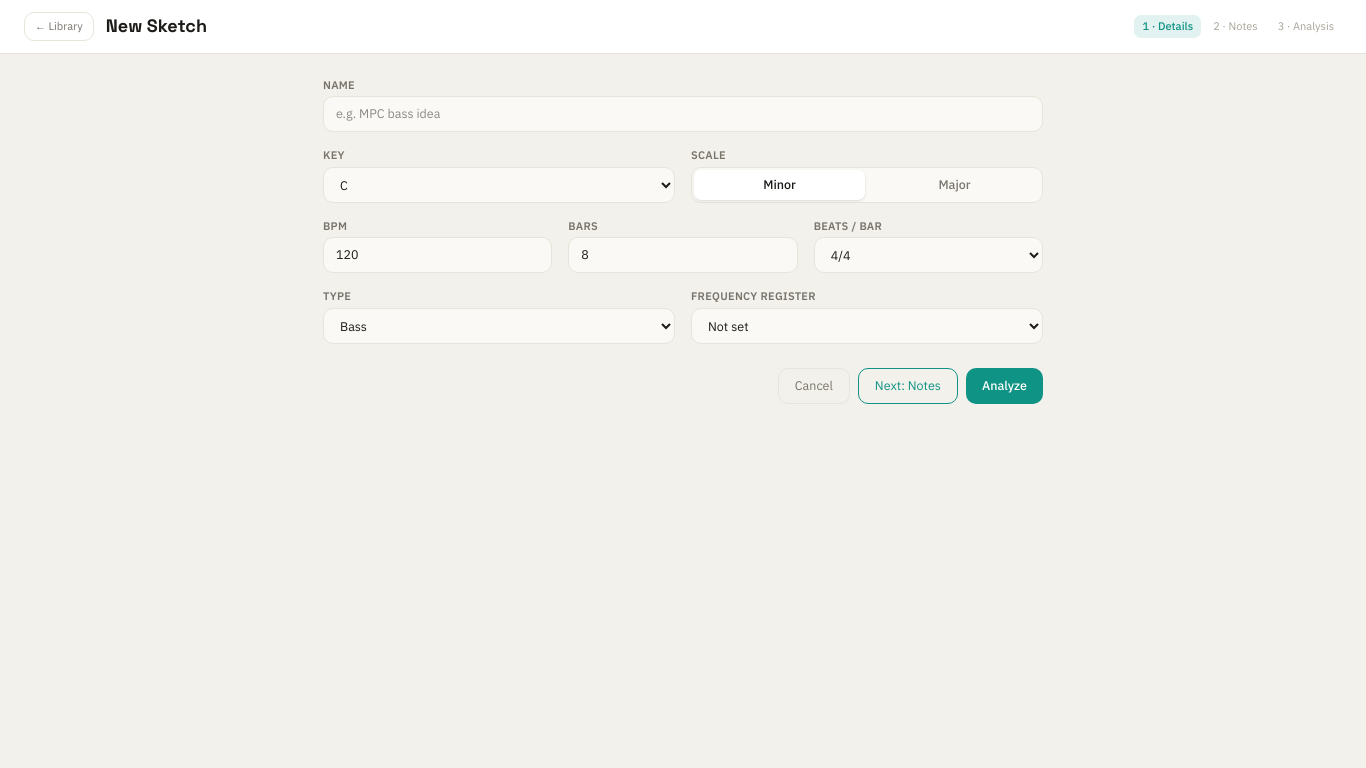
Test: SketchWizard — results step › saves the sketch and notifies parent
Click the button "Analyze": coordinates (1004, 386) [966,368,1043,404]
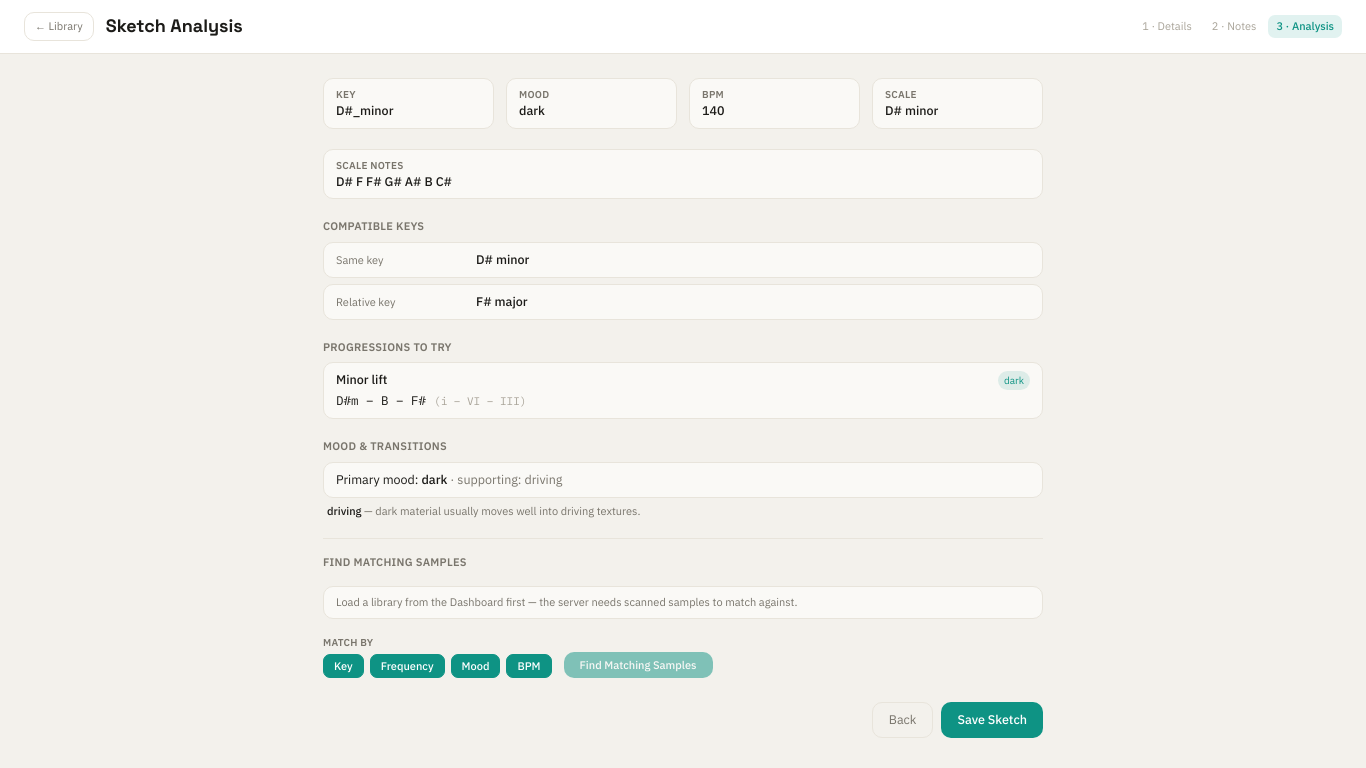
Check: the heading "Sketch Analysis" is shown, box [106,12,243,40]
Click the button "Save Sketch": coordinates (992, 720) [941,702,1043,738]
(page scrolled)
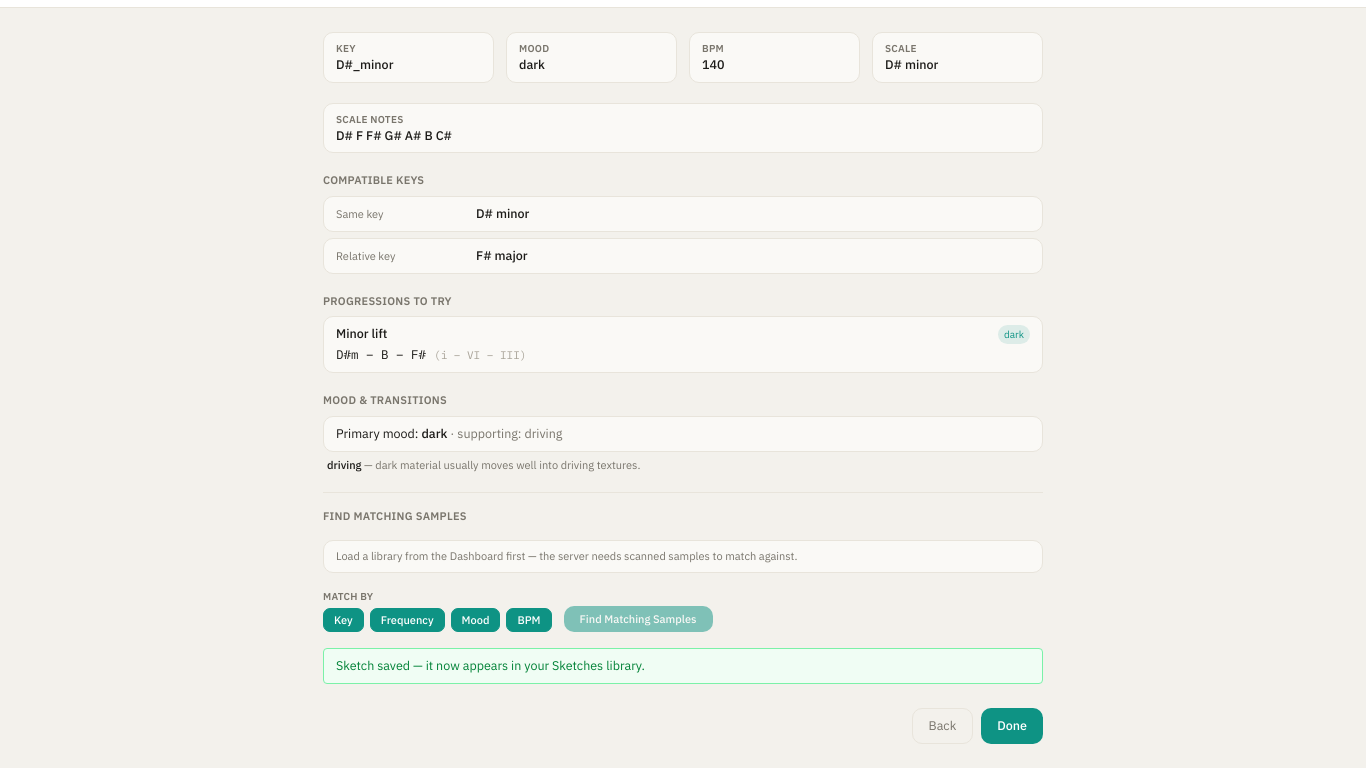
Check: the text "Sketch saved — it now appears in your Sketches library." is shown, box [323,648,1043,684]
Check: the button "Done" is shown, box [981,708,1043,744]
